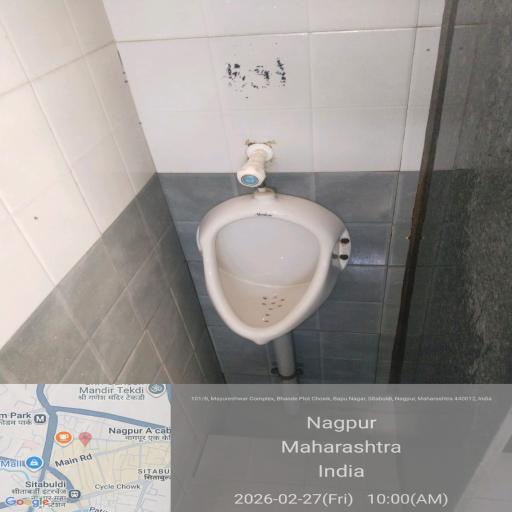clean_floor: (0, 0, 512, 206), (0, 206, 188, 379), (355, 207, 512, 368)
clean_urinal: (188, 210, 352, 345)
